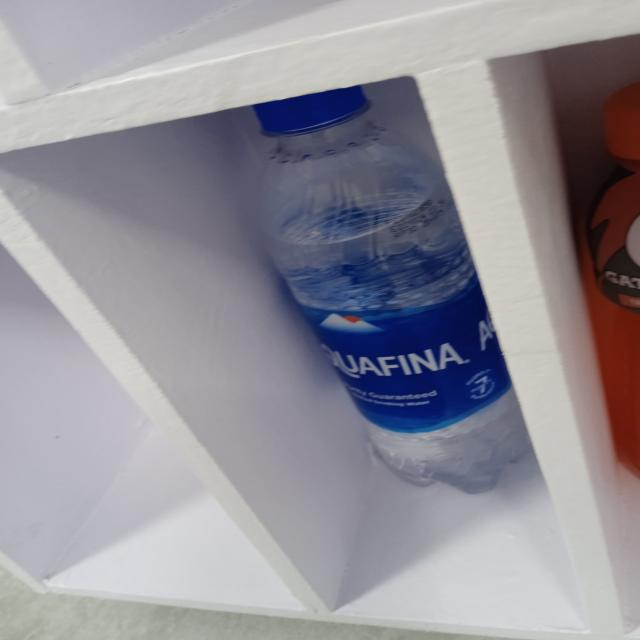Plastic: (246, 91, 521, 494), (591, 77, 640, 480)
